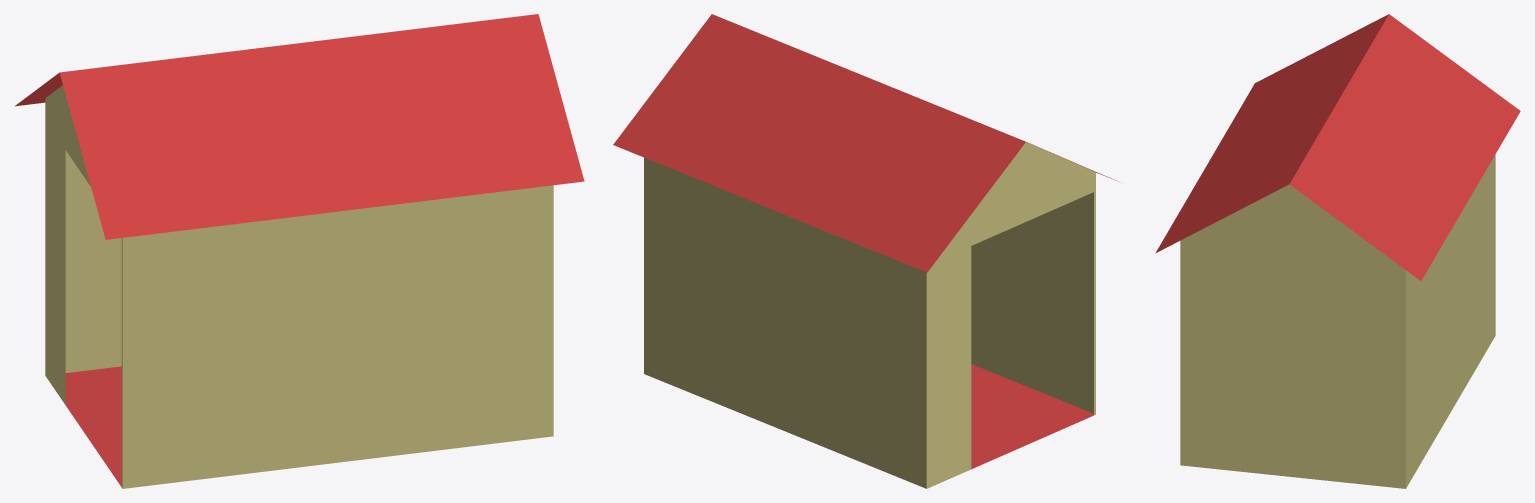
3 views of the same model, side by side, from view 1: azimuth 30°, elevation 25°; view 2: azimuth 150°, elevation 25°; view 3: azimuth 270°, elevation 25° (orthographic). The views are drawn at different scales.
Visible parts, largest first — view 1: group_5, group_3, group_4, group_6; view 2: group_5, group_3, group_6, group_4; view 3: group_5, group_3, group_4.
Boxes of the visible parts, x1,y1,x2,y2 form: group_5: (45,85,553,488); group_3: (84,14,584,239); group_4: (15,14,584,239); group_6: (65,366,121,486); group_5: (644,142,1095,488); group_3: (614,20,1118,272); group_6: (971,364,1093,469); group_4: (613,14,727,151); group_5: (1180,154,1495,488); group_3: (1180,14,1520,280); group_4: (1156,14,1421,280).
Bounding box in the file's own units: 22.52 × 17.57 × 15.99.
